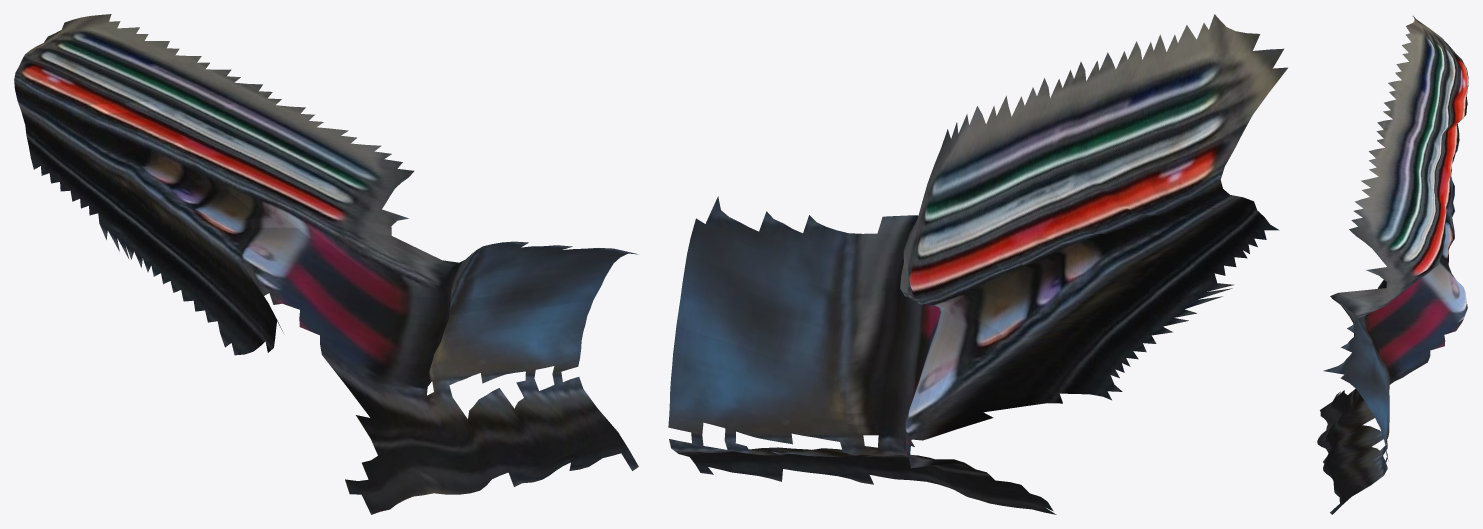
The model's file is observed-surface.glb.
The picture shows the model from 3 angles, left to right: view 1: azimuth 30°, elevation 25°; view 2: azimuth 150°, elevation 25°; view 3: azimuth 270°, elevation 25°; orthographic projection. The views are drawn at different scales.
Visible parts, largest first — view 1: geometry_0; view 2: geometry_0; view 3: geometry_0.
Part boxes in pixels (box(x1,y1,x2,y2)): geometry_0: box(14, 14, 638, 514); geometry_0: box(668, 14, 1287, 514); geometry_0: box(1317, 15, 1468, 514).
Size of the model in its own units: 0.5448 by 0.51 by 0.2054.
1 material, 1 textured.
